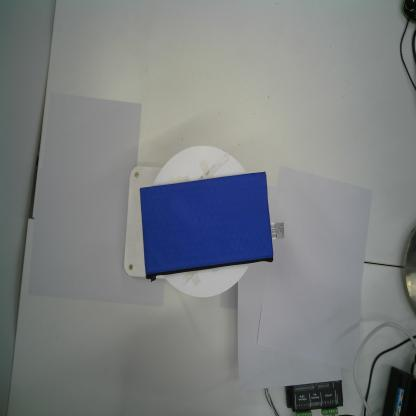Stationery: (138, 167, 287, 286)
